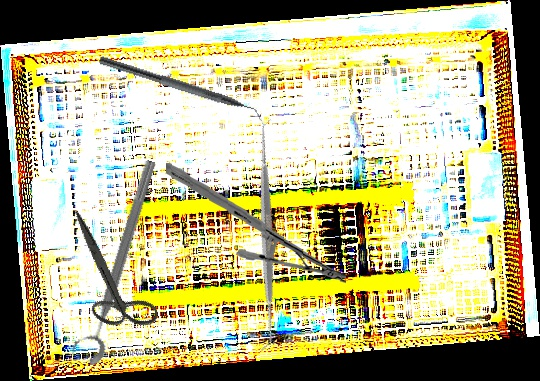Chopper: (93, 55, 273, 128)
Fixation Ring: (67, 154, 163, 368)
Iris Scissors: (34, 210, 184, 345)
Needle Holder: (160, 163, 352, 284)
Spatula Surgical: (150, 118, 383, 352)
